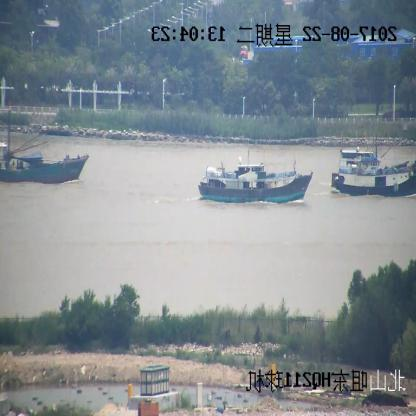Fishing Boat: (0, 115, 87, 185), (198, 158, 312, 202), (330, 149, 416, 195)
